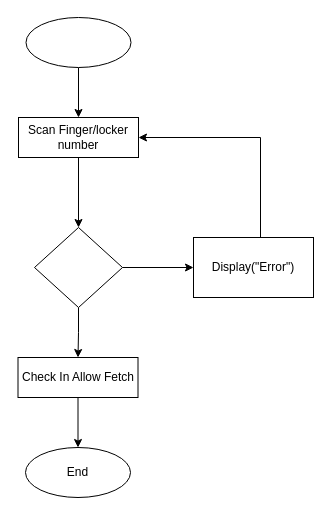
This 331x515 diagram has some shape labels left out. Here are the shapes that lost their labels. From the top down, the box of each, then its label:
(25, 16, 131, 68): Start
(34, 226, 122, 308): If Match
